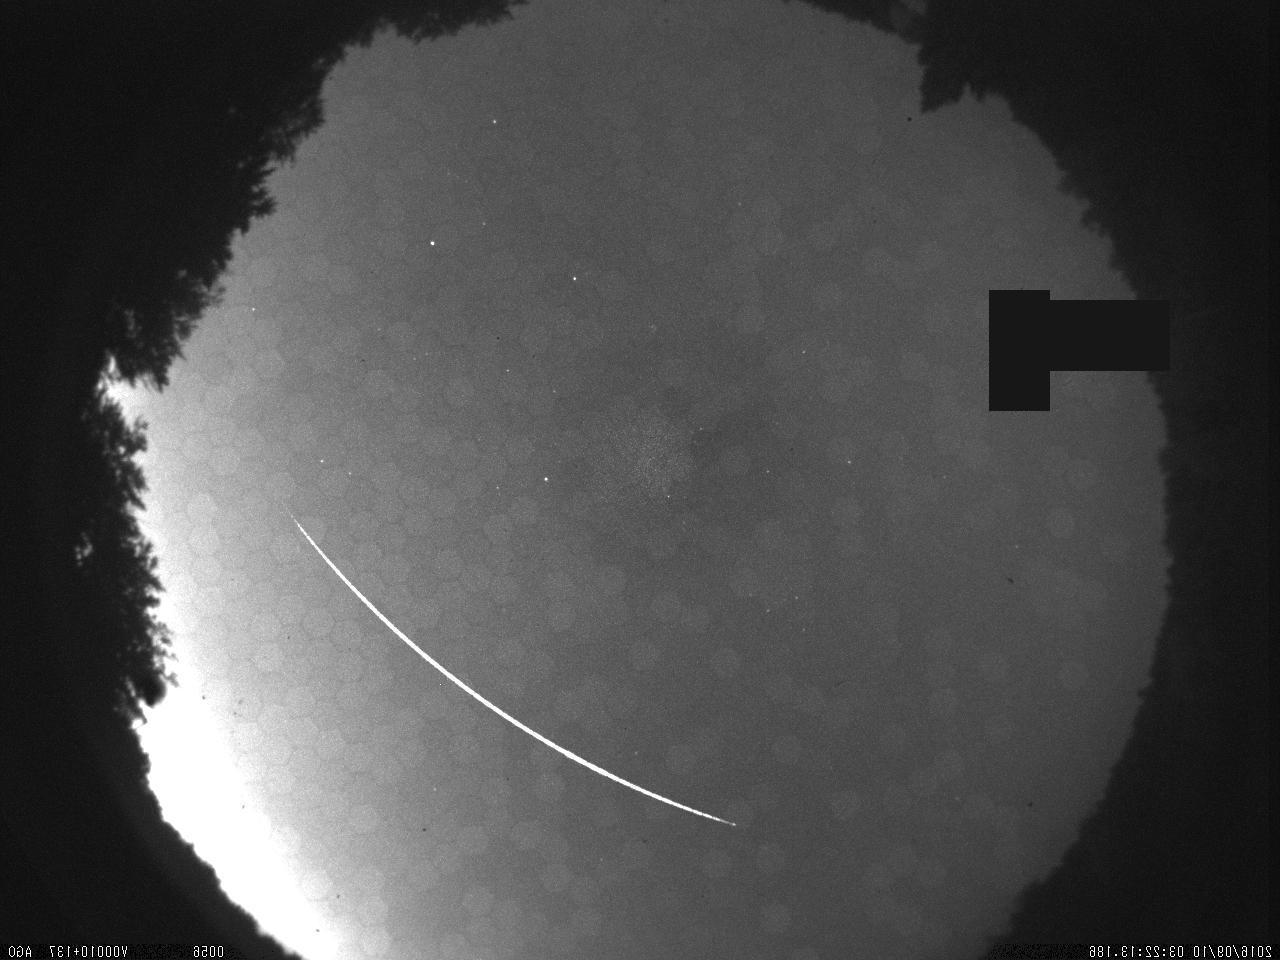meteor: (276, 469, 787, 840)
